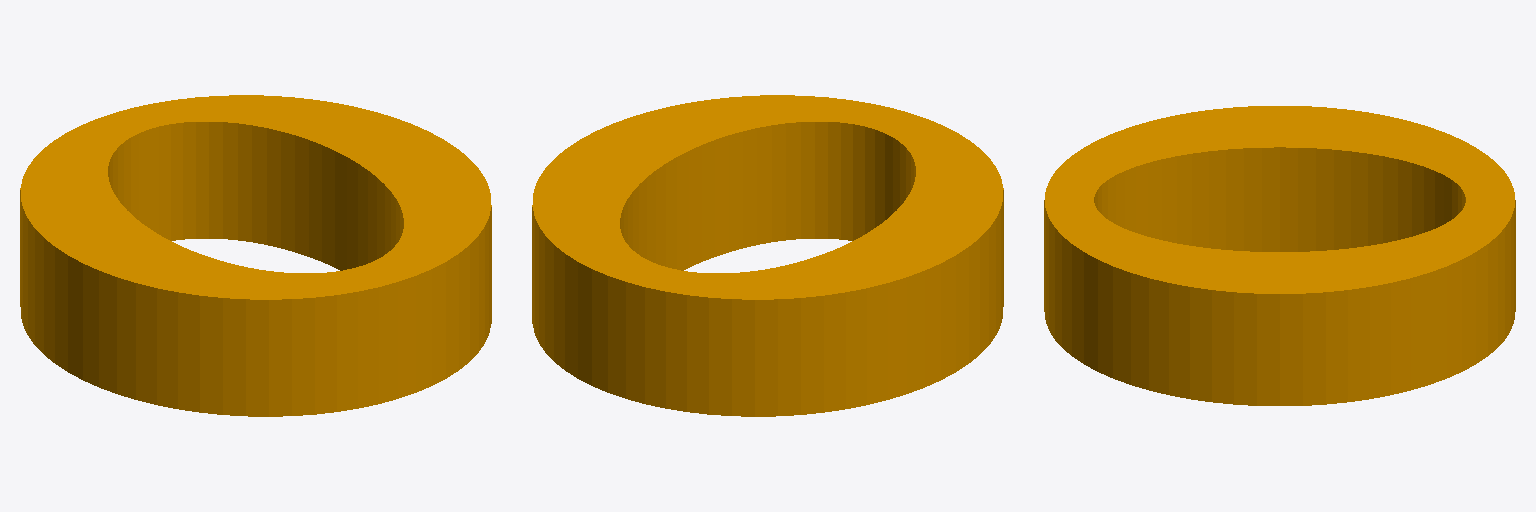
The robot description file, URDF, robot "torus":
<?xml version="0.0" ?>
<robot name="torus">
  <link name="body">
    <visual>
      <geometry>
        <mesh filename="obj/hollow.obj" scale=".1 .1 .5"/>
      </geometry>
      <origin rpy="0 0 0" xyz="0 0 0"/>
    </visual>
    <collision>
      <geometry>
        <mesh filename="obj/hollow_vhacd.obj" scale=".1 .1 .5"/>
      </geometry>
      <origin rpy="0 0 0" xyz="0 0 0"/>
    </collision>
    <inertial>
      <mass value="1"/>
      <inertia ixx="1" ixy="0" ixz="0" iyy="1" iyz="0" izz="1"/>
      <origin rpy="0 0 0" xyz="0 0 0"/>
    </inertial>
  </link>

</robot>

--- Facts derived from the render (not from the file) ---
The picture shows the robot from 3 angles, left to right: view 1: azimuth 30°, elevation 25°; view 2: azimuth 150°, elevation 25°; view 3: azimuth 270°, elevation 25°; orthographic projection.
Robot: torus — 1 links, 0 joints (none); root link body; default pose: every joint at zero.
Visible links, largest first — view 1: body; view 2: body; view 3: body.
Boxes of the visible links, x1,y1,x2,y2 form: body: (20,95,491,416); body: (532,95,1003,416); body: (1044,106,1515,405).
Size in the robot's own frame: 1.8 by 1.9 by 0.5 metres.
Meshes: 1 distinct files referenced, 1 mesh visuals loaded (1 OBJ).